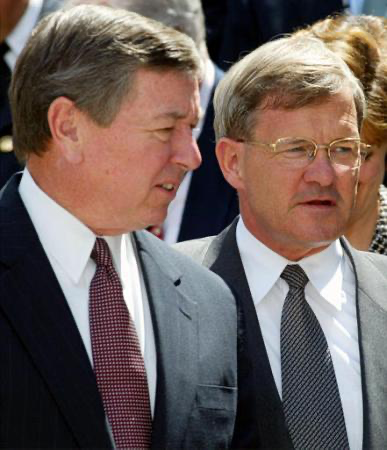Face: (98, 67, 213, 232), (249, 102, 372, 256)
